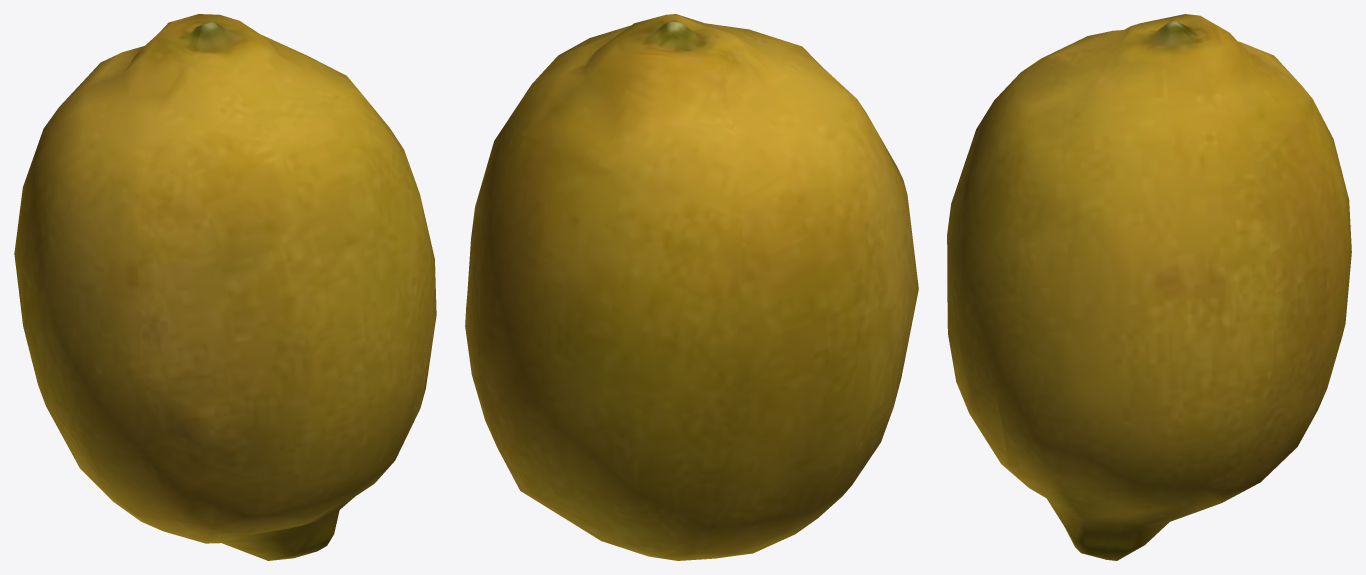
File: lemon.glb
3 views of the same model, side by side, from view 1: azimuth 30°, elevation 25°; view 2: azimuth 150°, elevation 25°; view 3: azimuth 270°, elevation 25° (orthographic). The views are drawn at different scales.
Visible parts, largest first — view 1: lemon; view 2: lemon; view 3: lemon.
Part boxes in pixels (<box>): lemon: <box>14,14,436,560</box>; lemon: <box>465,14,918,560</box>; lemon: <box>947,14,1351,560</box>.
Bounding box in the file's own units: 0.0685 × 0.0953 × 0.0679.
Materials: 1 (1 with a texture image).
